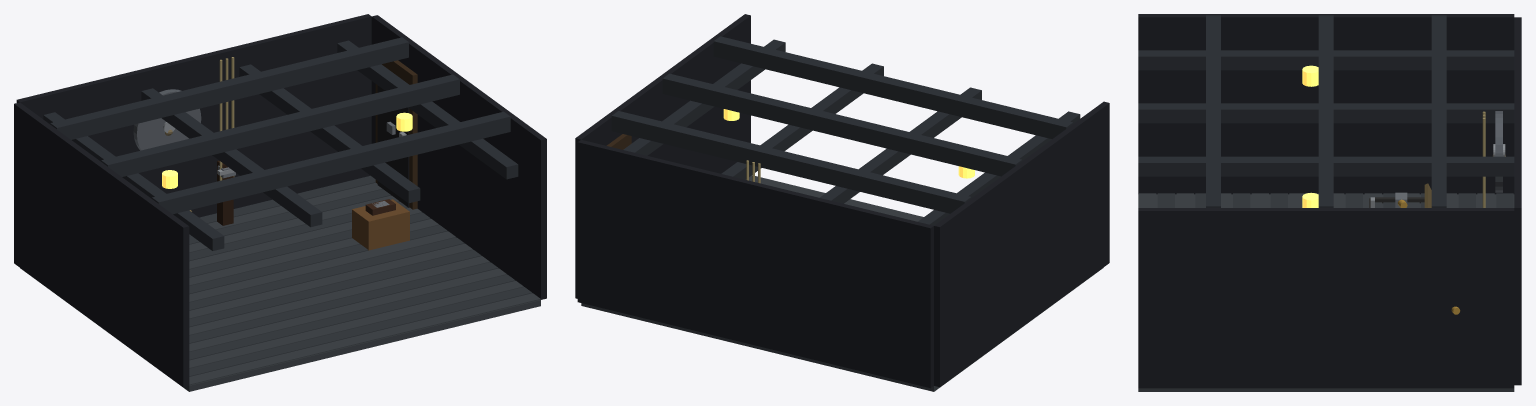
3 views of the same model, side by side, from view 1: azimuth 30°, elevation 25°; view 2: azimuth 150°, elevation 25°; view 3: azimuth 270°, elevation 25° (orthographic). The views are drawn at different scales.
Parts seen in each view (by area): view 1: WallLeft, WallBack, WallRight, GBeam0, GBeam1, GBeam2, Plank0, Plank1, Plank2, Plank3, Plank4, Plank5 (+24 smaller); view 2: WallBack, WallLeft, GBeam1, GBeam0, GBeam2, WallRight, GBeamV3, GBeamV1, GBeamV2, Floor, GBeamV0, Plank0; view 3: WallRight, WallLeft, GBeamV2, GBeamV0, GBeamV1, GBeam1, GBeam2, WallBack, GBeam0, Floor, Pulley, Lamp0.
Part boxes in pixels (x1,y1,x2,y2): WallLeft: (14, 102, 189, 387); WallBack: (16, 14, 371, 217); WallRight: (371, 15, 546, 299); GBeam0: (152, 111, 510, 214); GBeam1: (101, 74, 459, 176); GBeam2: (50, 37, 408, 139); Plank0: (189, 293, 540, 385); Plank1: (189, 287, 531, 376); Plank2: (189, 281, 523, 368); Plank3: (189, 274, 515, 360); Plank4: (189, 268, 506, 351); Plank5: (189, 262, 498, 343); WallBack: (577, 139, 933, 388); WallLeft: (934, 101, 1109, 387); GBeam1: (662, 73, 1022, 176); GBeam0: (713, 36, 1073, 138); GBeam2: (611, 111, 971, 213); WallRight: (575, 14, 750, 298); GBeamV3: (623, 39, 785, 155); GBeamV1: (819, 87, 981, 203); GBeamV2: (721, 63, 883, 179); Floor: (581, 267, 1103, 391); GBeamV0: (918, 111, 1080, 225); Plank0: (746, 175, 923, 221); WallRight: (1138, 208, 1514, 388); WallLeft: (1138, 14, 1514, 194); GBeamV2: (1138, 156, 1514, 176); GBeamV0: (1138, 50, 1514, 70); GBeamV1: (1138, 103, 1514, 123); GBeam1: (1318, 15, 1333, 207); GBeam2: (1431, 15, 1446, 207); WallBack: (1514, 17, 1521, 385); GBeam0: (1206, 15, 1220, 207); Floor: (1138, 194, 1514, 391); Pulley: (1495, 111, 1502, 192); Lamp0: (1302, 65, 1318, 86).
Size of the model in its own units: 6.26 by 2.8 by 5.1.
